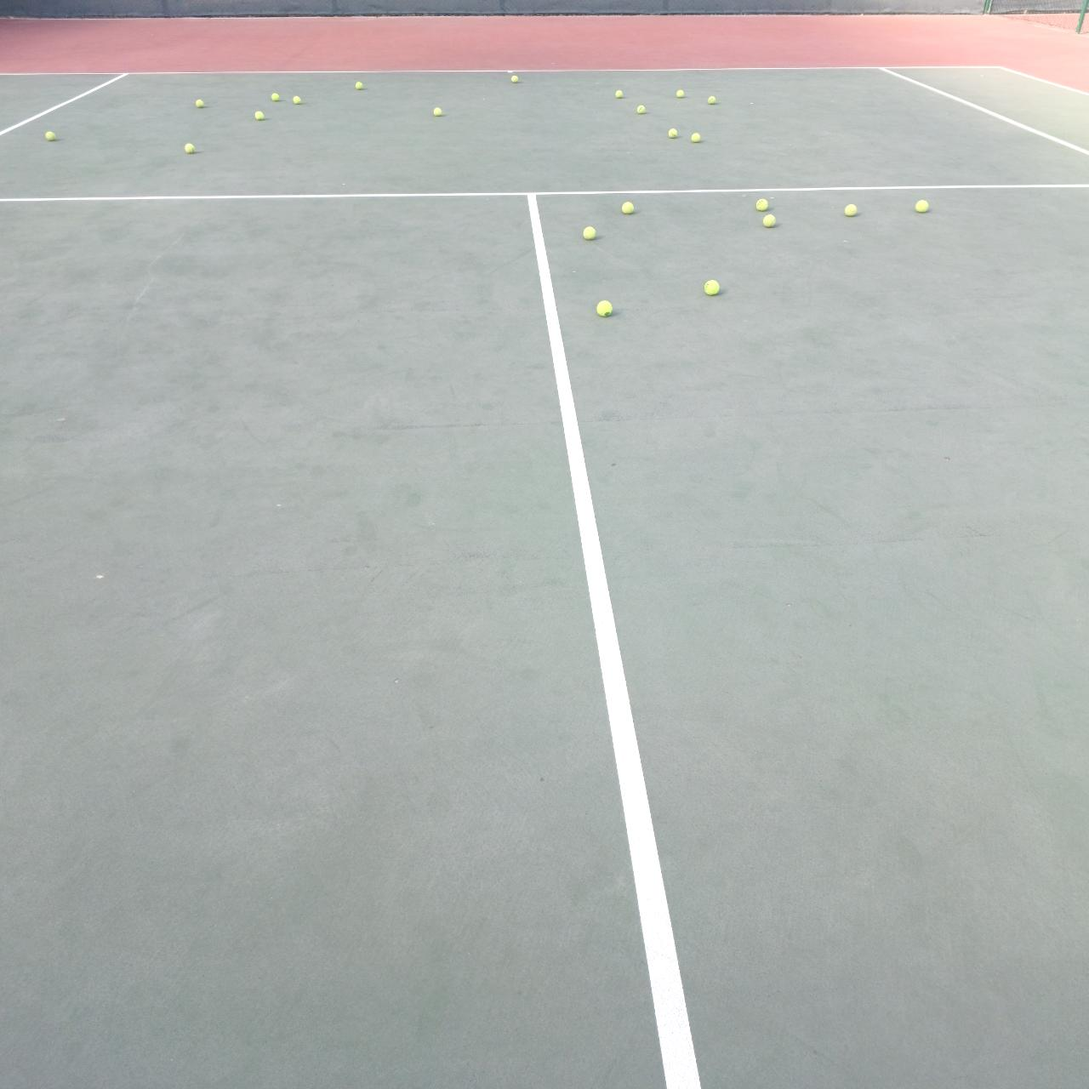tennis-ball: (596, 298, 614, 316), (704, 279, 720, 295), (762, 213, 777, 227), (915, 199, 929, 213), (583, 225, 596, 240), (755, 198, 769, 211), (622, 201, 635, 215), (845, 203, 858, 216), (184, 143, 195, 154), (45, 131, 56, 141), (691, 133, 701, 143), (433, 107, 442, 117), (255, 111, 264, 121), (355, 81, 364, 90), (293, 96, 302, 105), (669, 128, 677, 138), (708, 96, 716, 105), (615, 90, 623, 99), (196, 99, 204, 108), (637, 106, 645, 114), (676, 90, 684, 98), (271, 93, 279, 101), (511, 75, 518, 83)
